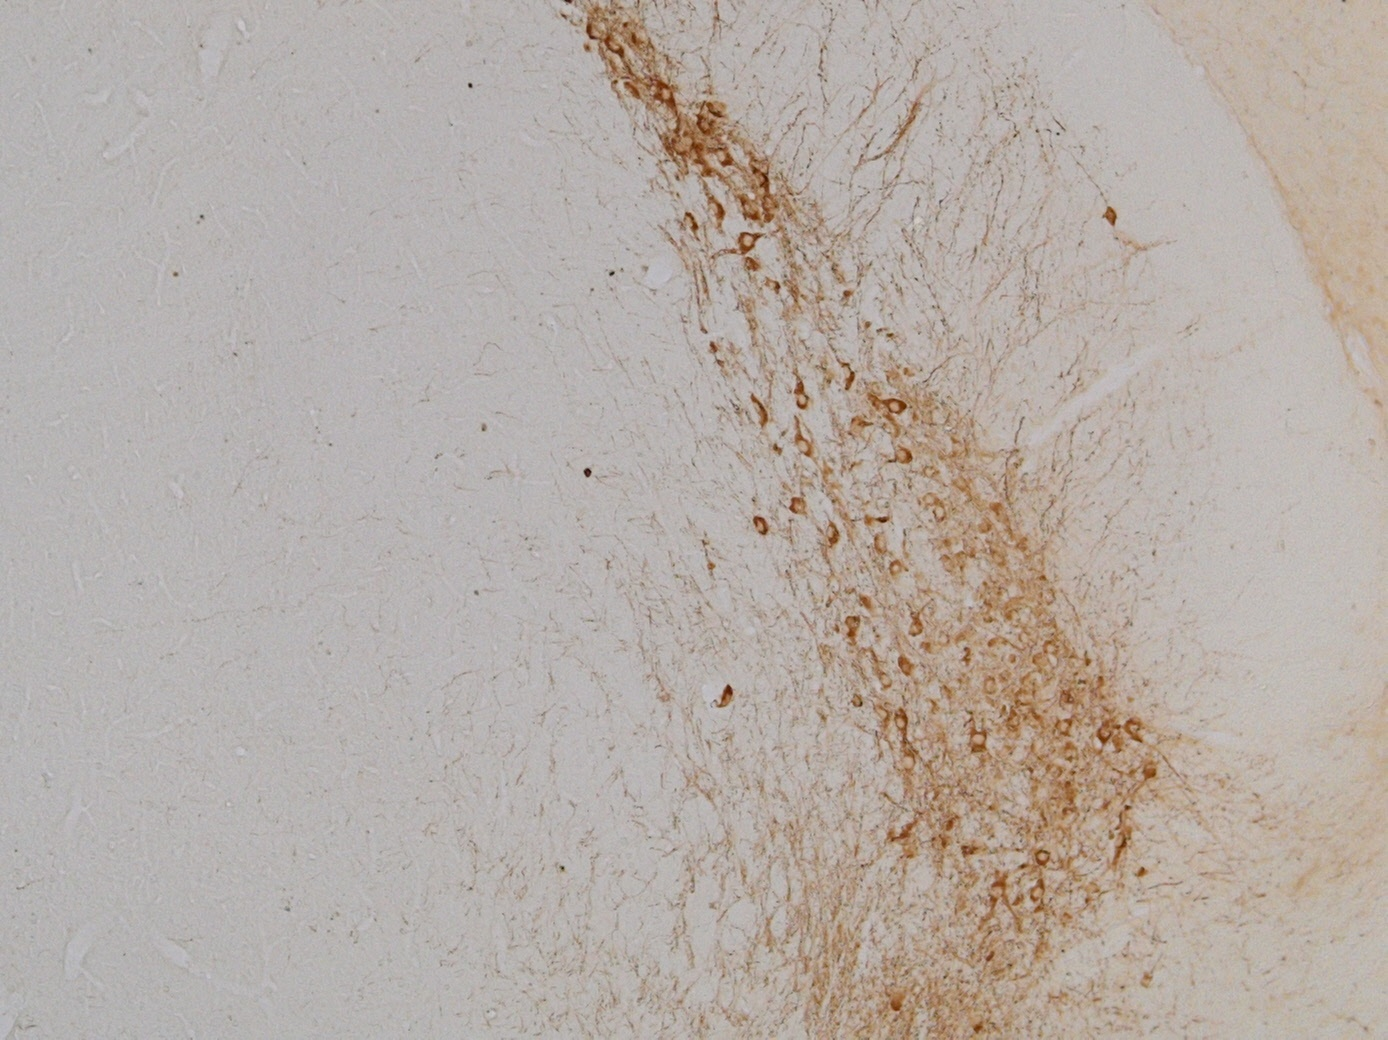neuron: (707, 682, 743, 718), (742, 394, 778, 430), (1028, 883, 1052, 907), (1037, 635, 1061, 659), (1053, 716, 1077, 740), (1092, 725, 1116, 749), (1100, 204, 1124, 228), (1123, 718, 1147, 742), (1138, 759, 1162, 783), (585, 21, 609, 45), (603, 35, 627, 59), (653, 82, 677, 106), (678, 213, 702, 237), (693, 113, 717, 137), (705, 197, 729, 221), (711, 145, 735, 169), (735, 202, 759, 226), (737, 229, 761, 253), (752, 515, 776, 539), (758, 194, 782, 218), (763, 276, 787, 300), (787, 494, 811, 518), (791, 388, 815, 412), (793, 437, 817, 461), (821, 521, 845, 545), (840, 612, 864, 636), (846, 689, 870, 713), (868, 531, 892, 555), (873, 669, 897, 693), (886, 395, 910, 419), (886, 558, 910, 582), (889, 712, 913, 736), (893, 444, 917, 468), (897, 657, 921, 681), (899, 753, 923, 777), (906, 619, 930, 643), (918, 461, 942, 485), (966, 728, 990, 752), (978, 675, 1003, 699), (985, 881, 1009, 905), (1029, 846, 1053, 868), (928, 503, 952, 525)
